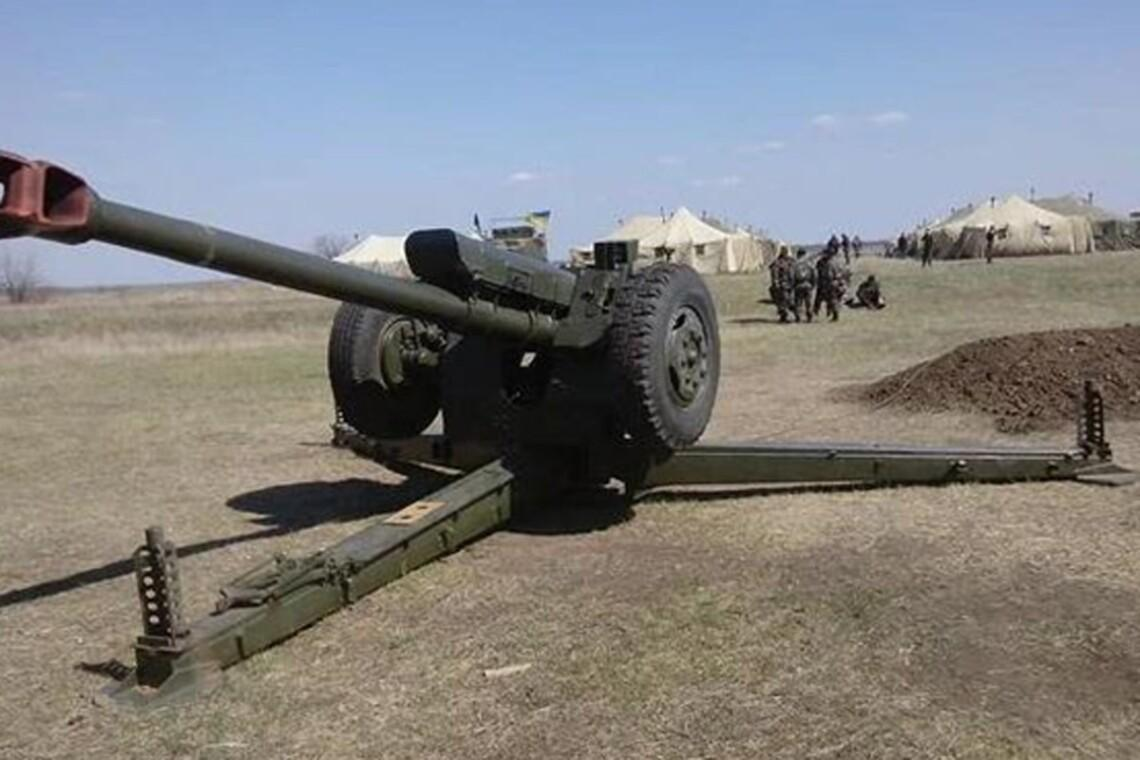person: (818, 257, 856, 328), (792, 244, 819, 330), (766, 238, 792, 322), (858, 269, 890, 315), (918, 224, 937, 268), (984, 219, 1000, 268), (824, 220, 842, 258), (896, 224, 910, 267), (840, 226, 854, 267), (852, 231, 868, 262)
sau: (3, 121, 1140, 711)
